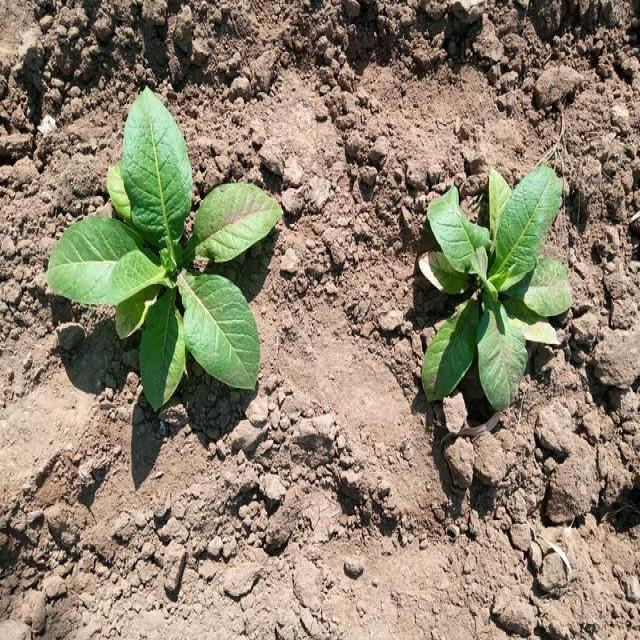crop: (49, 85, 284, 414), (415, 167, 573, 425)
